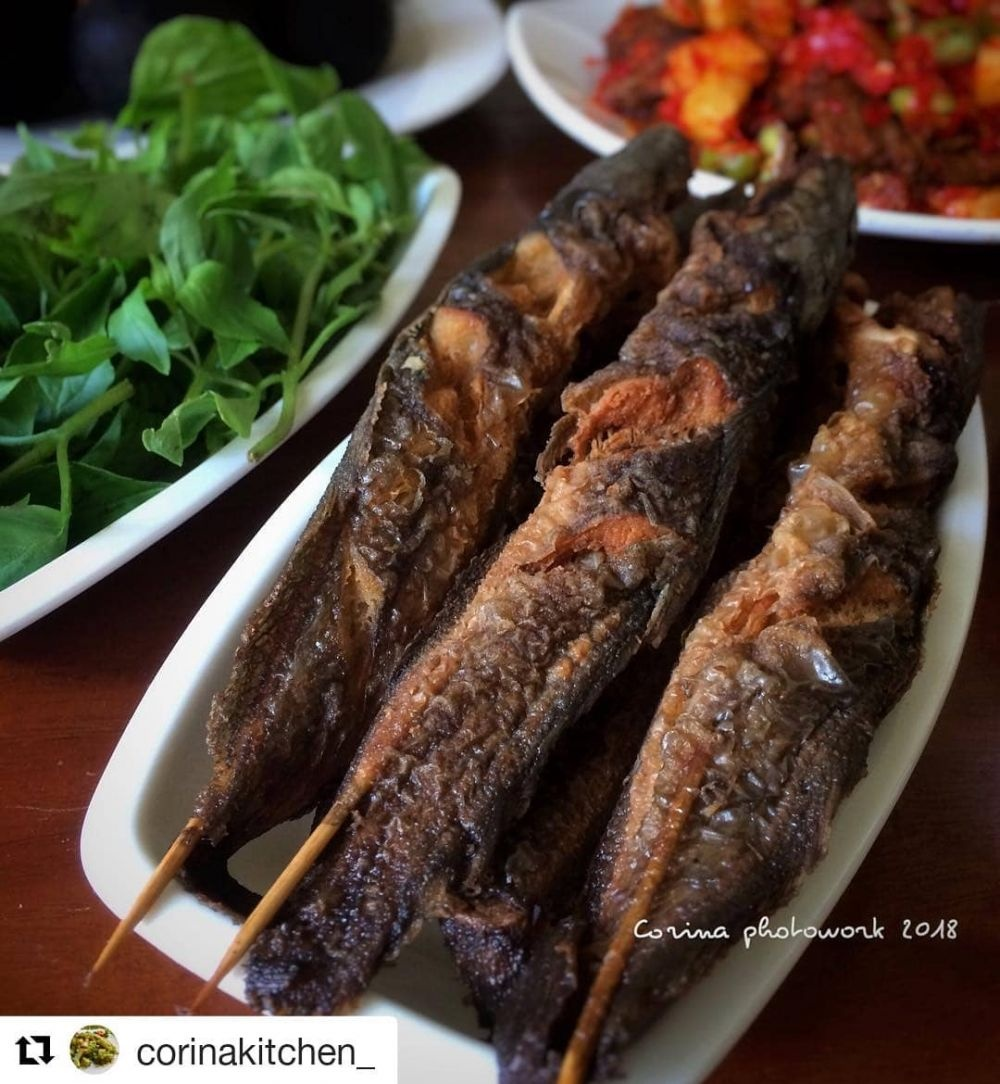pecel_lele: (333, 155, 858, 928)
